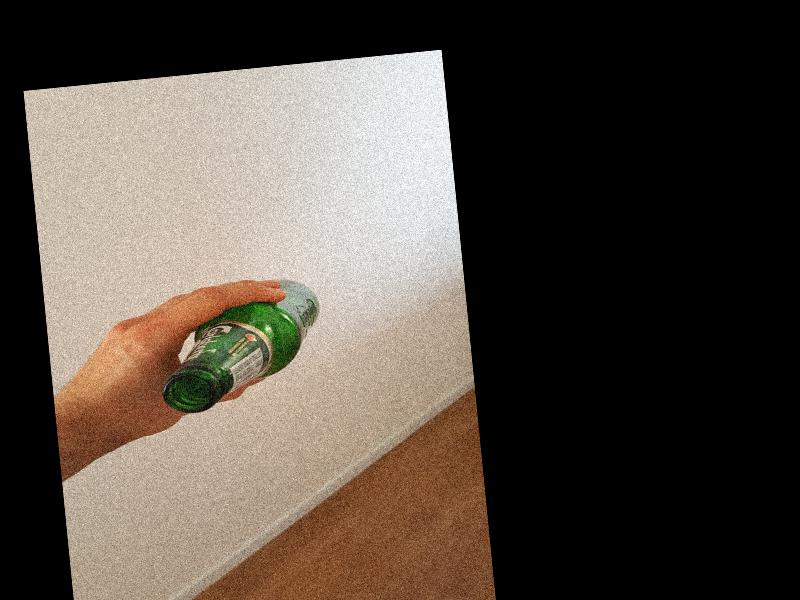Beer: (152, 278, 328, 418)
